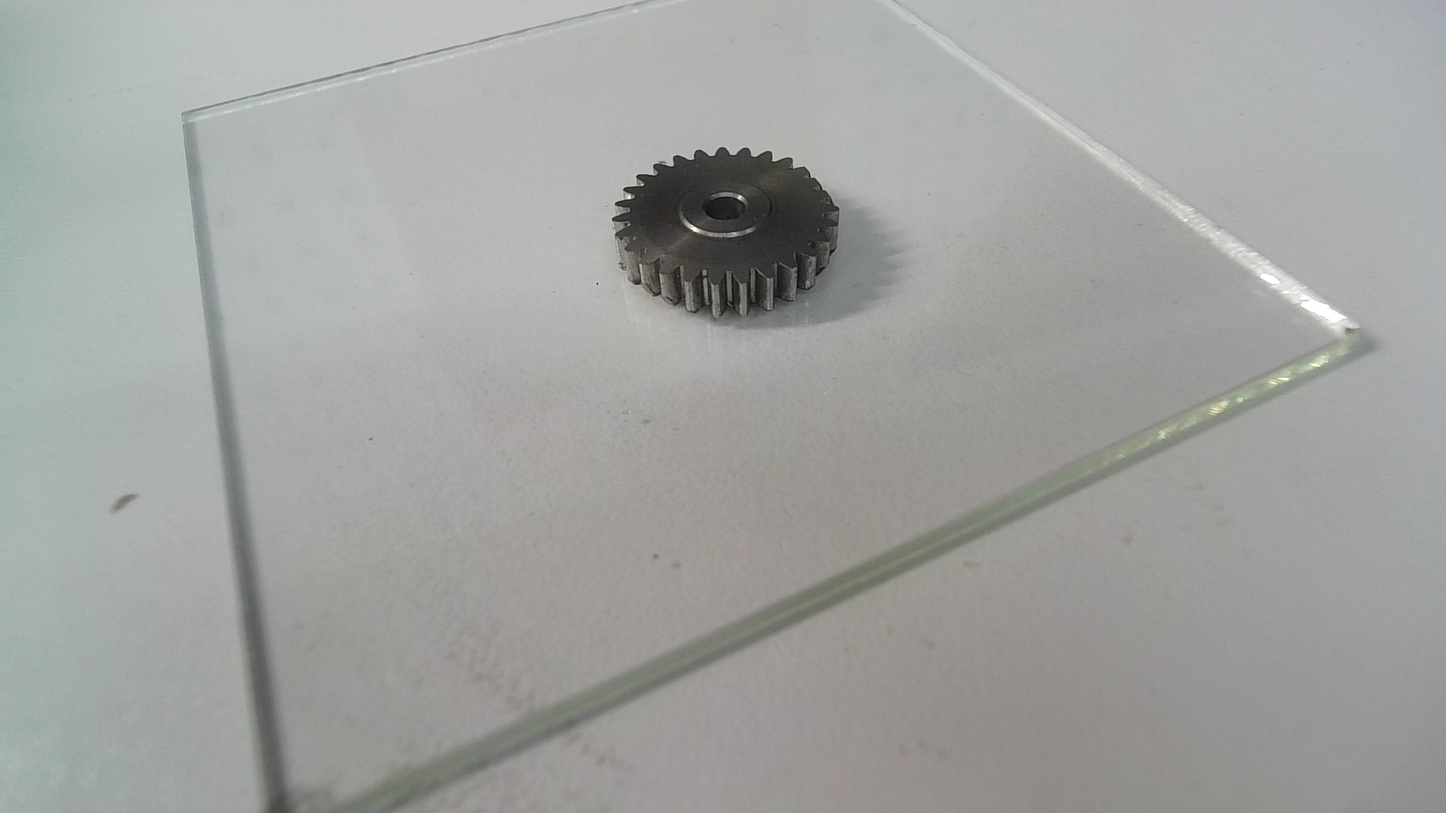gear: (612, 146, 843, 321)
